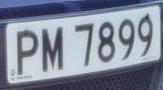7: (73, 16, 97, 74)
8: (94, 15, 119, 69)
9: (115, 12, 138, 64), (134, 11, 156, 61)
M: (40, 23, 67, 78)
P: (12, 26, 40, 77)
